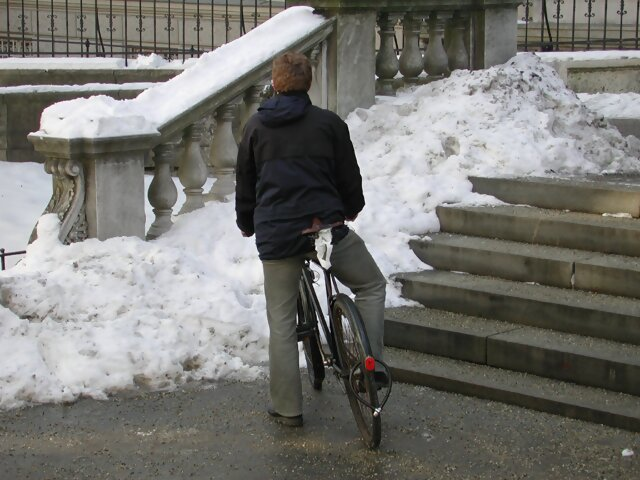person: (231, 41, 391, 442)
